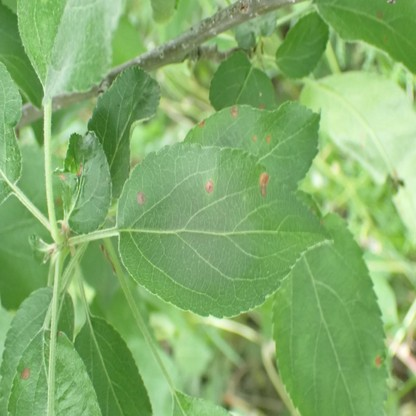frogeye_leaf_spot: (258, 173, 269, 198), (20, 367, 31, 379), (204, 179, 214, 192), (137, 191, 145, 205), (231, 105, 239, 118), (375, 356, 382, 366), (57, 173, 65, 181), (197, 120, 205, 127), (257, 102, 265, 109), (77, 163, 81, 176), (266, 135, 270, 145), (252, 135, 256, 142)
powdery_mildew: (48, 49, 80, 94)
